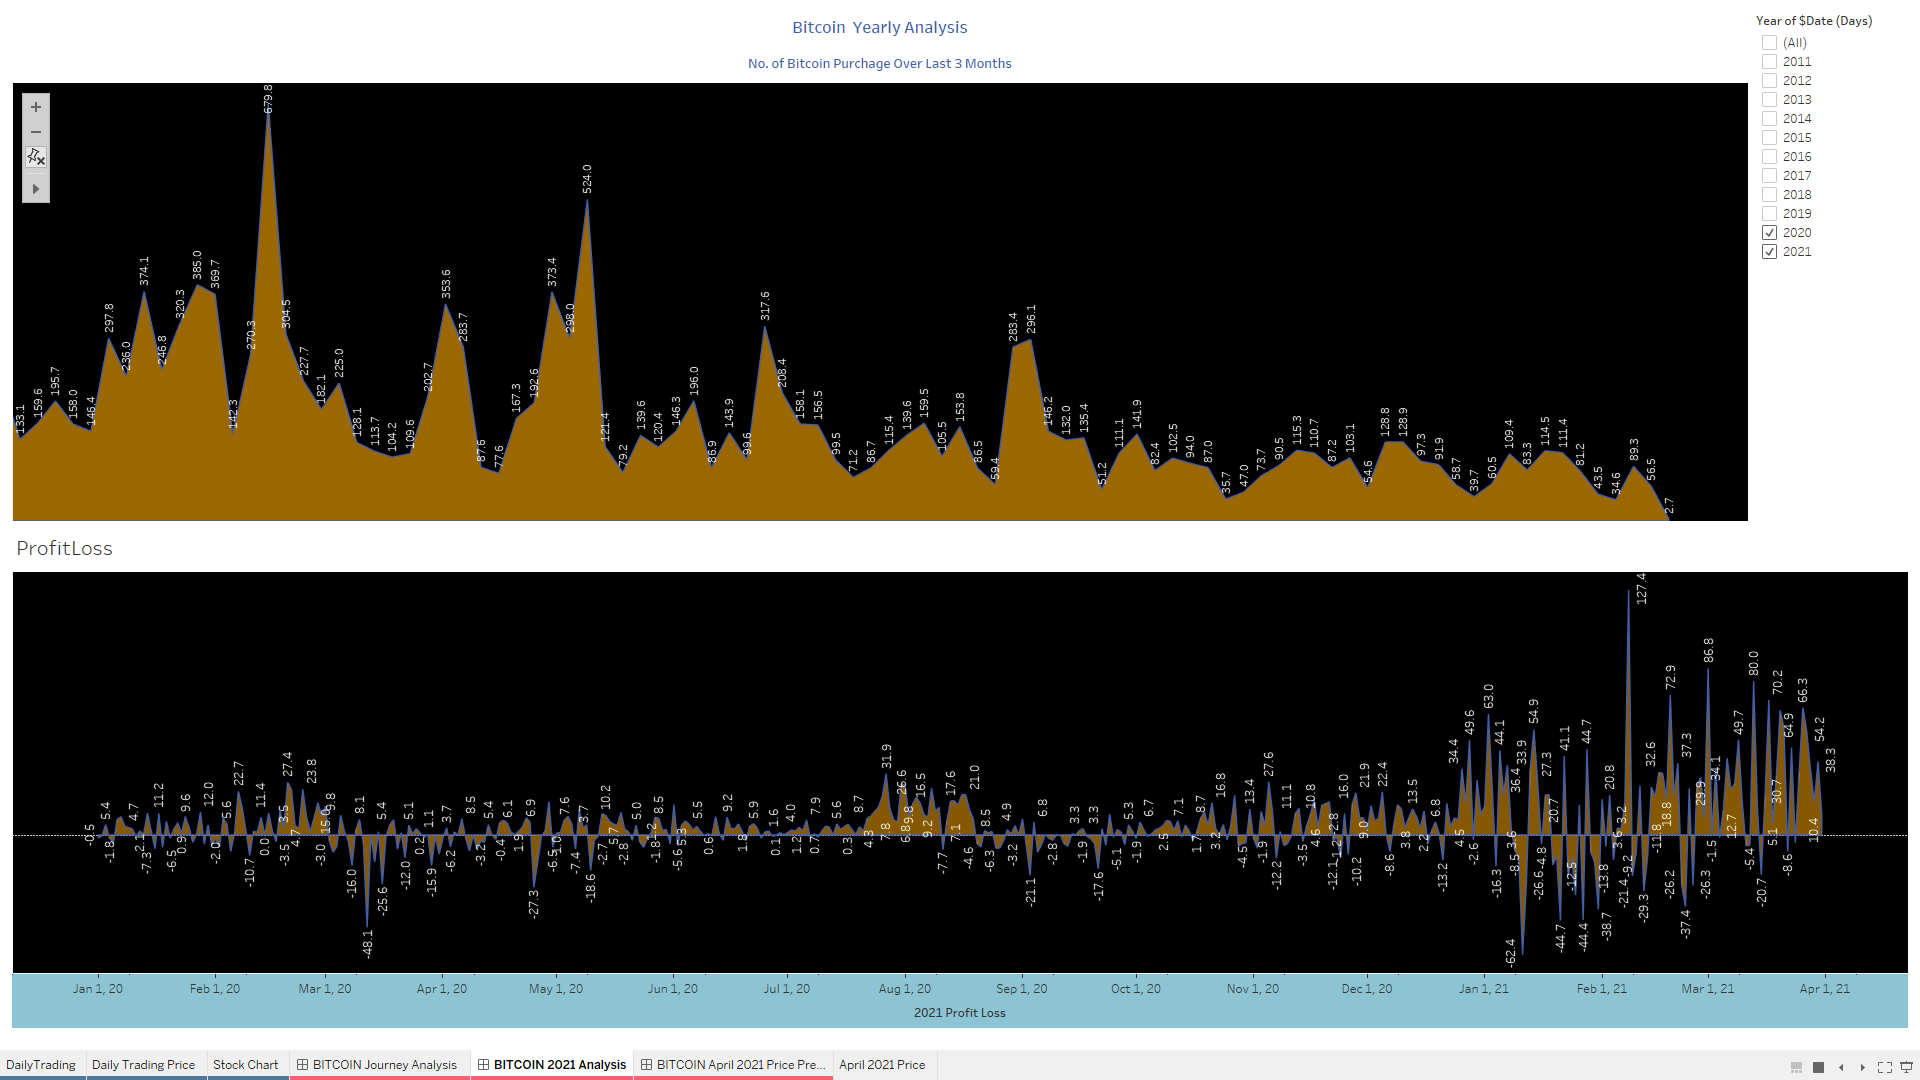

The dashboard page shown, as its layout file describes it:
{"tool":"tableau","page":{"name":"BITCOIN 2021 Analysis","canvas":[1000,1000],"units":"permille","ordinal":0},"visuals":[{"type":"worksheet","title":"YearNoBitcoin","mark":"Area","rows":["Volume_(BTC)"],"cols":["$Date (Days)"],"box":[4.7,8.8,990.6,525.4]},{"type":"dashboard-object","box":[964,69.7,14.9,26.6]},{"type":"filter","title":"YearNoBitcoin","param":"[federated.0d28ofl0g40r0219957rx1anl8fv].[yr:$Date (Days):ok]","box":[929.2,70.8,60.9,290.9]},{"type":"worksheet","title":"ProfitLoss","mark":"Area","rows":["Calculation_2010575772229492738"],"cols":["$Date (Days)"],"box":[4.7,534.2,990.6,456.9]}]}

Visuals, with their boxes on the dashboard's canvas, which has no fixed pixel size, in thousandths of its width and height (x1, y1, x2, y2). These are canvas units, not pixel positions in the 1920x1080 screenshot, which may show the page scaled, cropped or inside an application window:
"YearNoBitcoin" worksheet (Area marks): [5,9,995,534]
dashboard-object: [964,70,979,96]
"YearNoBitcoin" filter: [929,71,990,362]
"ProfitLoss" worksheet (Area marks): [5,534,995,991]
